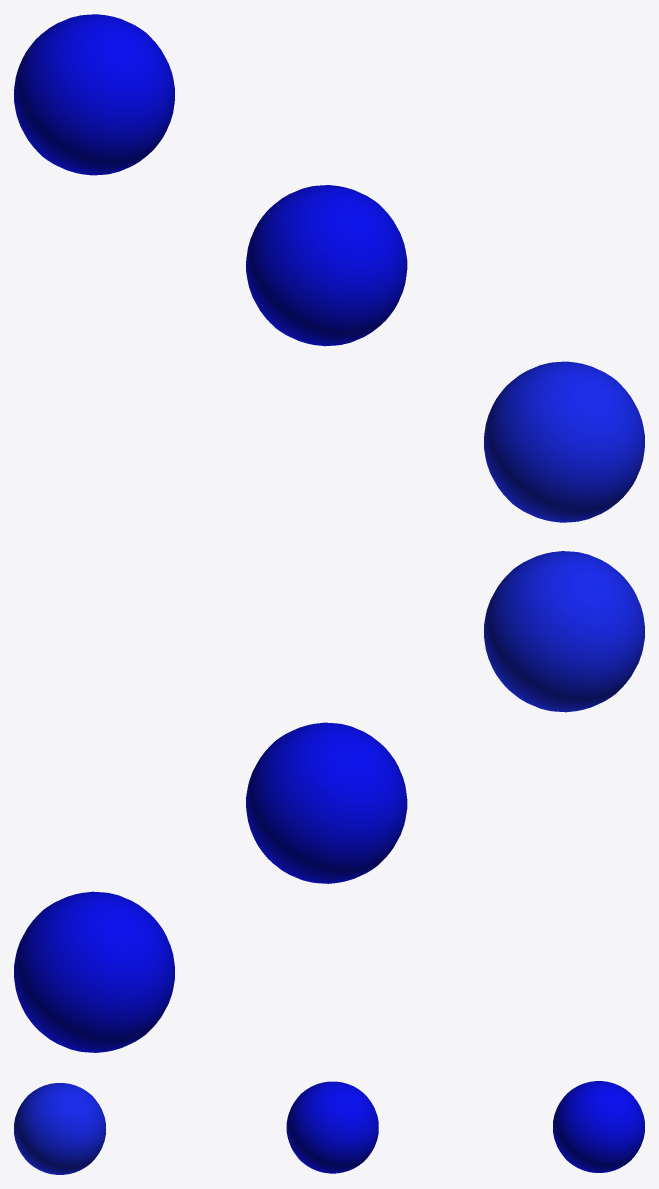
The model's file is Caso(-,-,-).glb.
The picture shows the model from 3 angles, top to bottom: view 1: azimuth 30°, elevation 25°; view 2: azimuth 150°, elevation 25°; view 3: azimuth 270°, elevation 25°; orthographic projection. The views are drawn at different scales.
Parts seen in each view (by area): view 1: Carga 2, Carga 3, Carga 1; view 2: Carga 2, Carga 3, Carga 1; view 3: Carga 2, Carga 1, Carga 3.
Boxes of the visible parts, x1,y1,x2,y2 form: Carga 2: (246, 185, 407, 346); Carga 3: (14, 14, 174, 175); Carga 1: (484, 361, 644, 522); Carga 2: (246, 722, 407, 883); Carga 3: (14, 891, 174, 1052); Carga 1: (484, 551, 644, 712); Carga 2: (286, 1081, 378, 1173); Carga 1: (14, 1083, 105, 1174); Carga 3: (553, 1081, 644, 1172).
Size of the model in its own units: 3.44 by 3.52 by 23.6.
